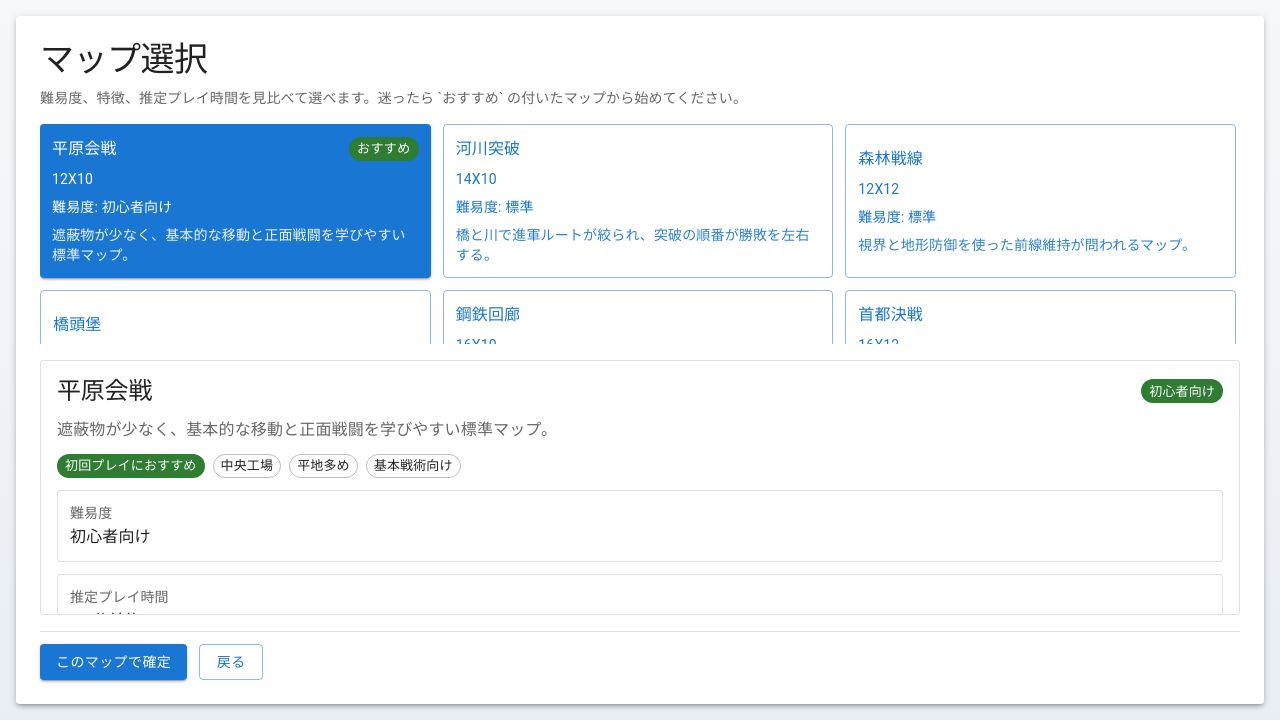
Test: MapSelectScreen UIテスト: 詳細プレビュー › マップを切り替えると詳細プレビューが同期して変わる
The image size is (1280, 720).
Click the button "河川突破 14x10 難易度: 標準 橋と川で進軍ルートが絞られ、突破の順番が勝敗を左右する。" at (488, 148), box [443,124,833,278]
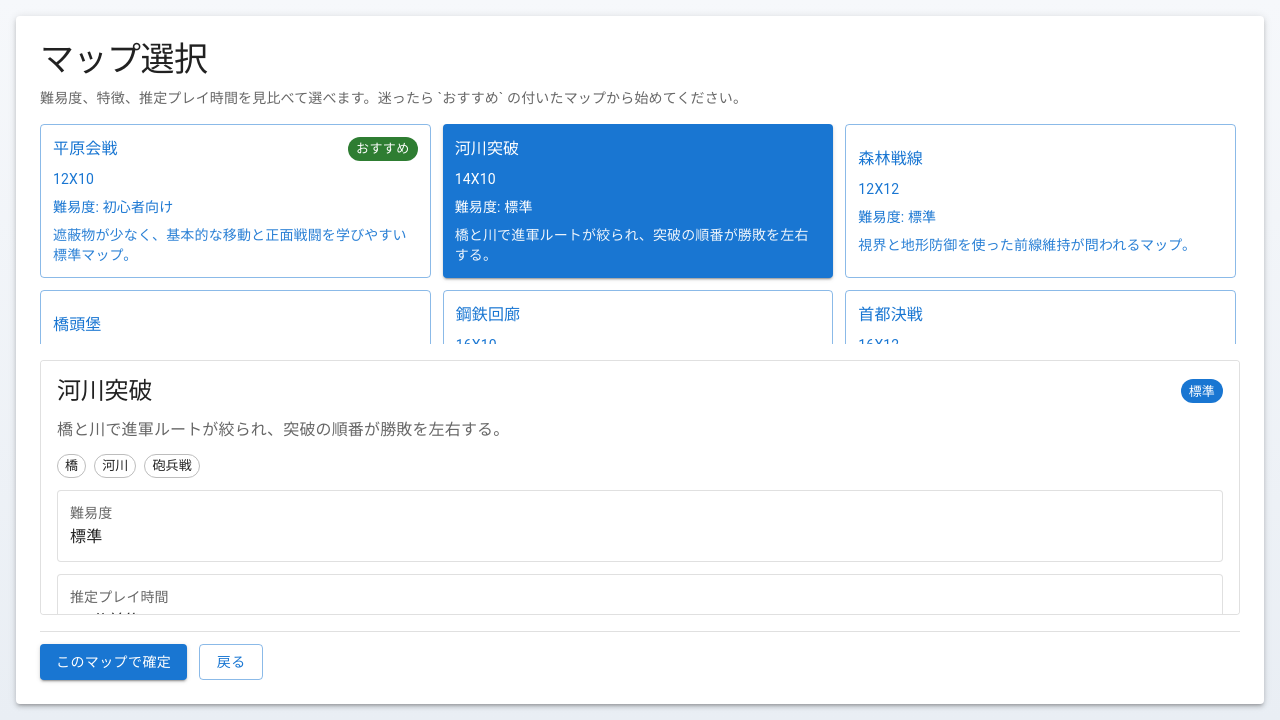
Expected: the element named "選択中マップ詳細" shows "河川突破", [57,377,152,405]
Expected: the element named "選択中マップ詳細" shows "25 分前後", [40,360,1240,614]
Expected: the element named "選択中マップ詳細" shows "橋", [65,458,78,473]
